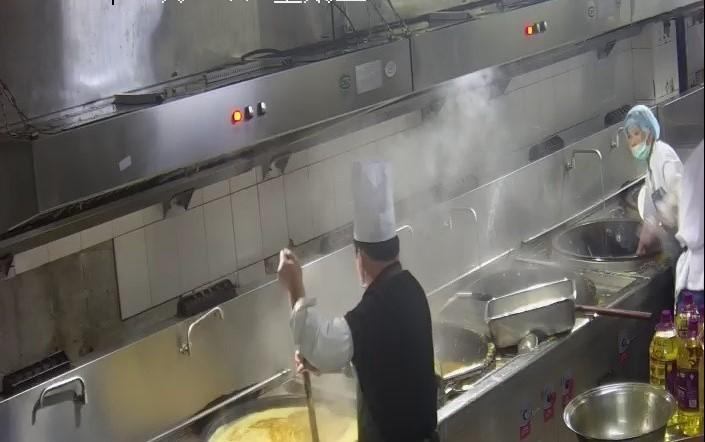mask: (628, 133, 652, 155)
